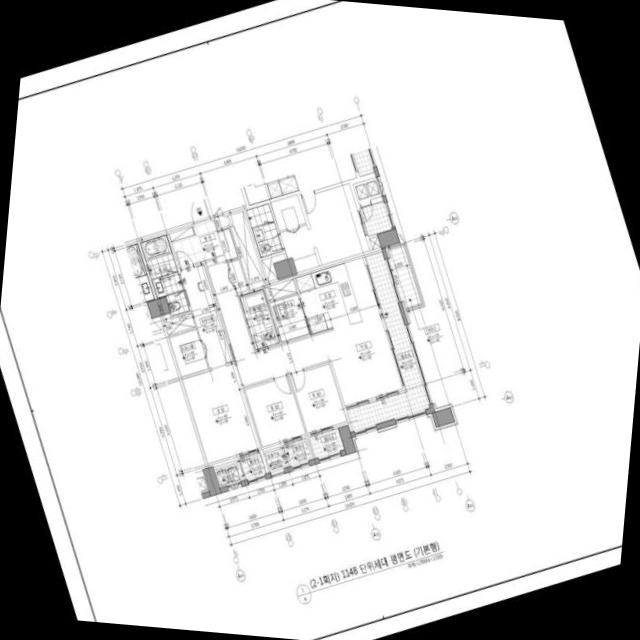background: (0, 0, 640, 640)
space_balconi: (346, 251, 429, 430), (309, 427, 344, 457), (282, 437, 312, 465), (239, 451, 266, 478)
space_bedroom: (182, 362, 259, 463), (244, 375, 305, 446), (290, 363, 346, 432)
space_dressroom: (180, 264, 233, 367), (169, 329, 207, 375)
space_front: (168, 218, 237, 267)
space_kitchen: (294, 256, 380, 333)
space_living_room: (207, 259, 402, 405)
space_multipurpose_space: (269, 294, 309, 341)
space_other: (214, 210, 296, 300), (213, 459, 242, 487), (162, 312, 194, 334)
space_outdoor_room: (263, 446, 285, 471)
space_toilet: (140, 234, 189, 315), (238, 288, 279, 349)
